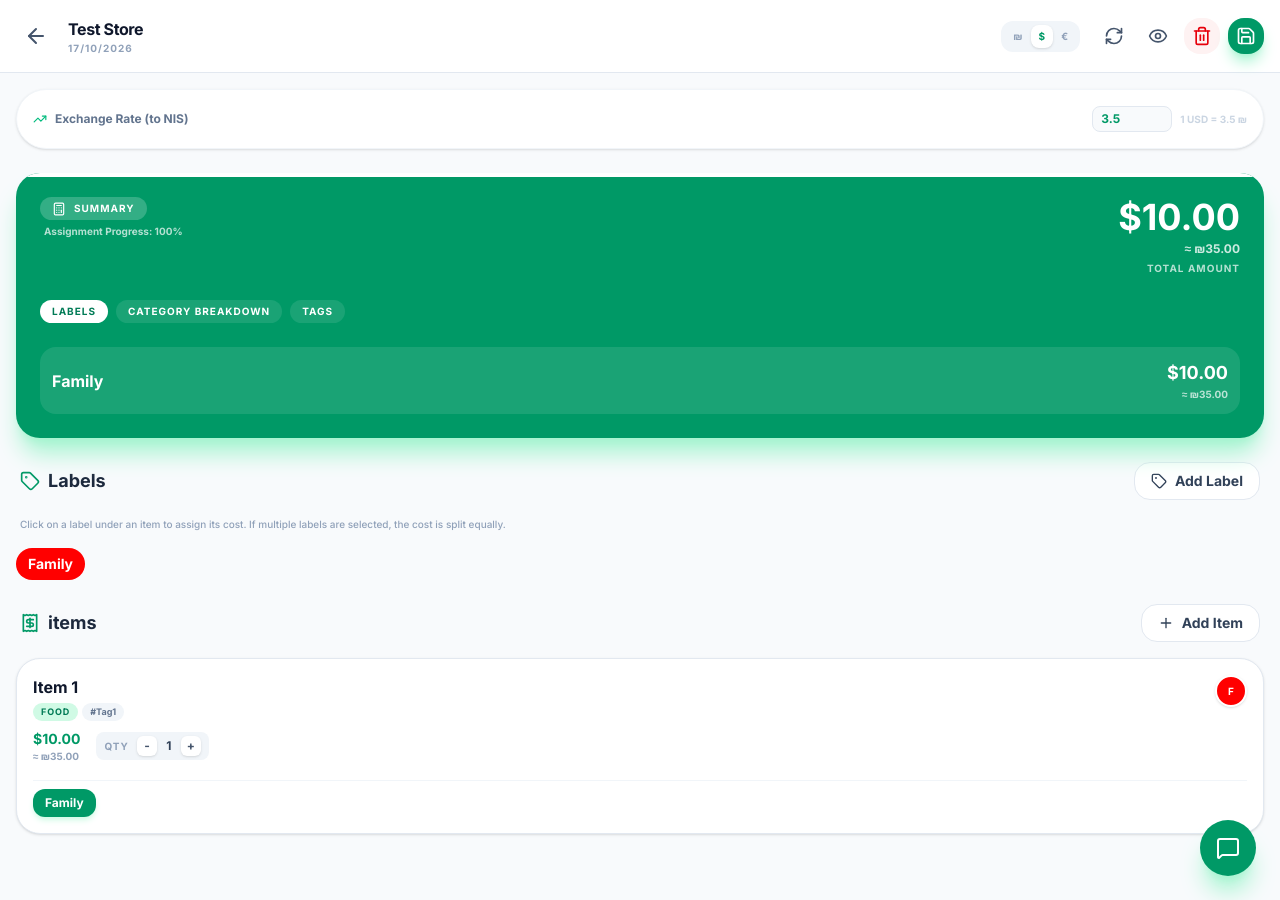
Scenario: SessionView › opens chat when chat button is clicked
This screenshot has width=1280, height=900.
Click the button named "chat". click: coordinates (1228, 848)
box: [1200,820,1256,876]
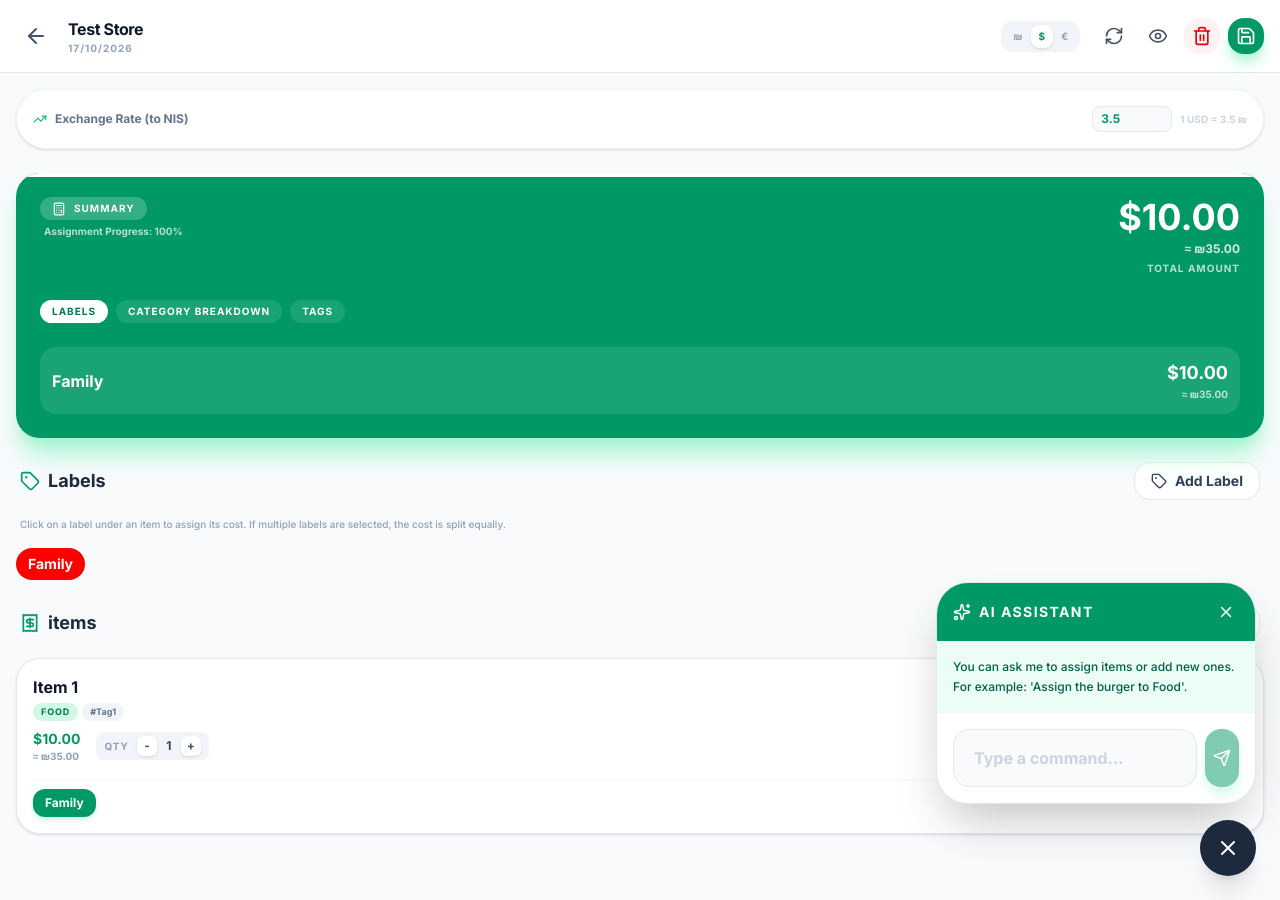
Expected: the text "AI Assistant" is shown, [979,602,1094,622]
